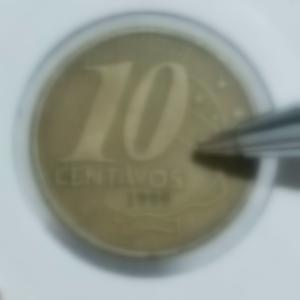10 cent: (47, 41, 258, 250)
